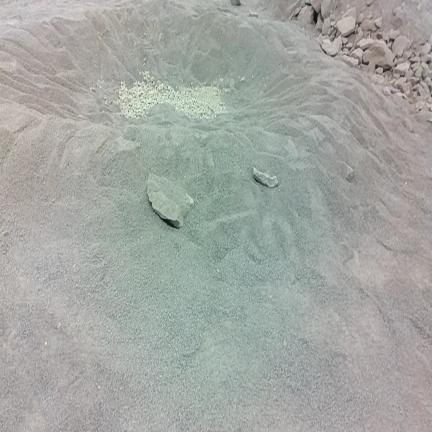Rock: (147, 174, 194, 228), (363, 41, 395, 68), (253, 167, 278, 188), (322, 36, 342, 56), (337, 16, 355, 36), (393, 36, 411, 56), (298, 5, 315, 24), (321, 0, 334, 18), (360, 19, 377, 32), (393, 63, 409, 76), (353, 28, 363, 48), (351, 48, 363, 63), (357, 39, 373, 50), (342, 7, 356, 18), (342, 56, 358, 65), (310, 0, 321, 13), (403, 118, 413, 132), (322, 18, 330, 35), (422, 63, 431, 78), (414, 101, 426, 112), (421, 81, 430, 95), (347, 166, 354, 182), (316, 15, 323, 31), (402, 50, 412, 61), (395, 77, 406, 87), (421, 43, 430, 55), (373, 17, 382, 28), (389, 30, 400, 39), (401, 83, 410, 94), (368, 61, 375, 74), (424, 77, 431, 89), (405, 69, 412, 80), (410, 77, 419, 85), (411, 62, 420, 70), (415, 67, 422, 77), (317, 34, 323, 44), (383, 32, 389, 42), (396, 58, 406, 64), (418, 86, 424, 96), (358, 13, 363, 23), (410, 57, 420, 62), (342, 48, 349, 55), (231, 0, 240, 5), (376, 68, 383, 74), (346, 43, 352, 49), (249, 13, 258, 17), (230, 79, 234, 88), (342, 37, 347, 44), (366, 0, 373, 5), (387, 42, 392, 49), (159, 33, 163, 41), (429, 96, 431, 103), (241, 77, 244, 81), (151, 77, 154, 81)
